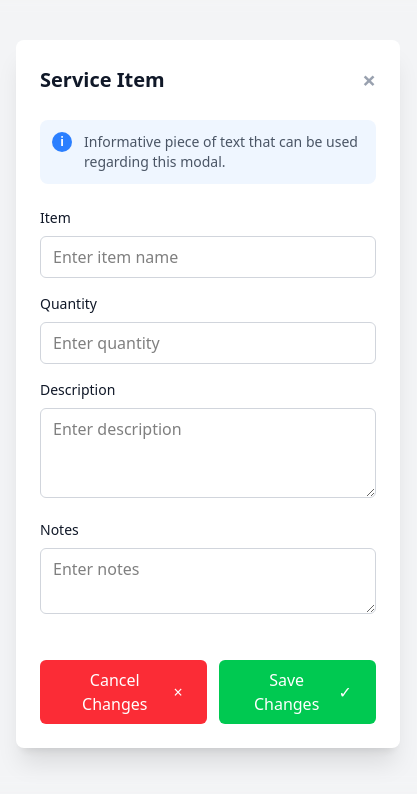
Test: ServiceFormModal › validates required fields
Step 1. Click the button "Save Changes ✓" → (297, 692), box [219, 660, 376, 724]
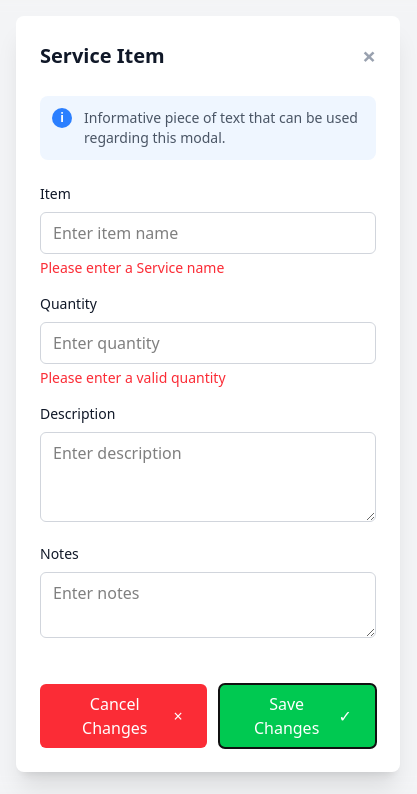
Check: the text "Please enter a Service name" is shown, box [40, 258, 224, 277]
Check: the text "Please enter a valid quantity" is shown, box [40, 368, 226, 387]
